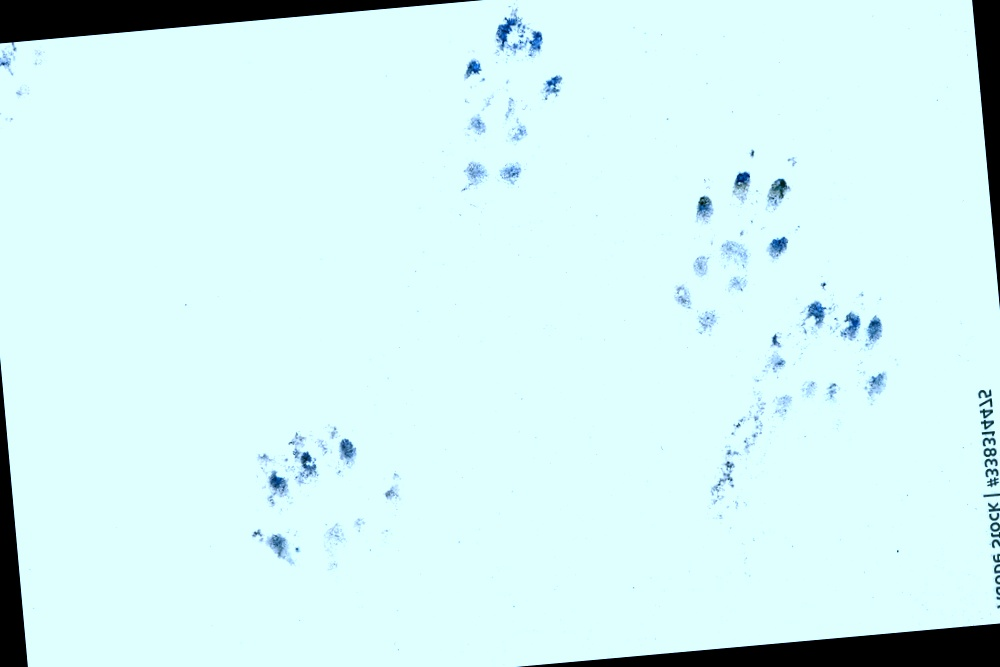ecureuil: (89, 157, 349, 582), (558, 383, 793, 667), (396, 5, 544, 205)
